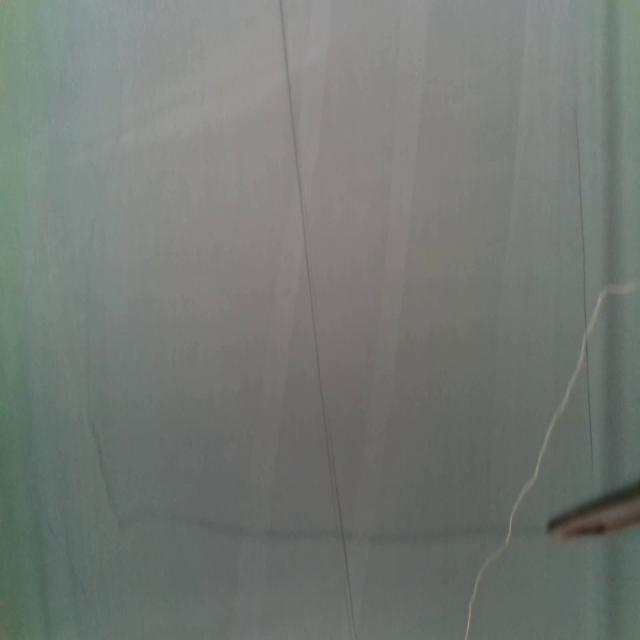color bleeding: (110, 500, 544, 550)
crease: (280, 1, 356, 638), (575, 72, 596, 483)
